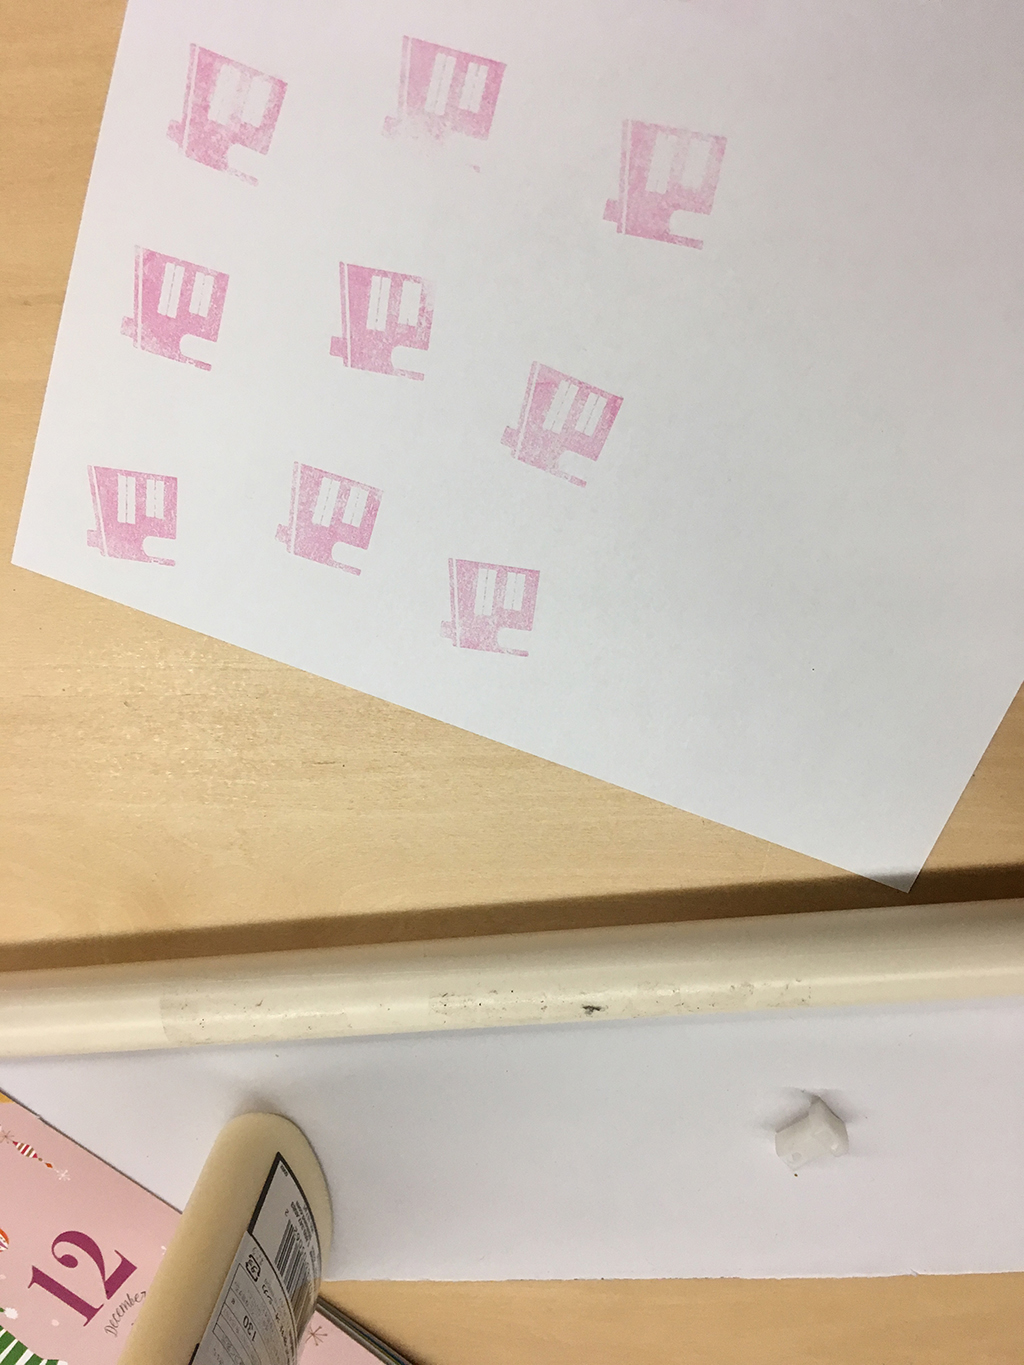house: (155, 32, 297, 193), (371, 23, 516, 177), (486, 349, 632, 500), (591, 111, 736, 261), (105, 229, 233, 381), (317, 252, 443, 394), (65, 451, 195, 581), (264, 456, 390, 581), (423, 551, 552, 669)
